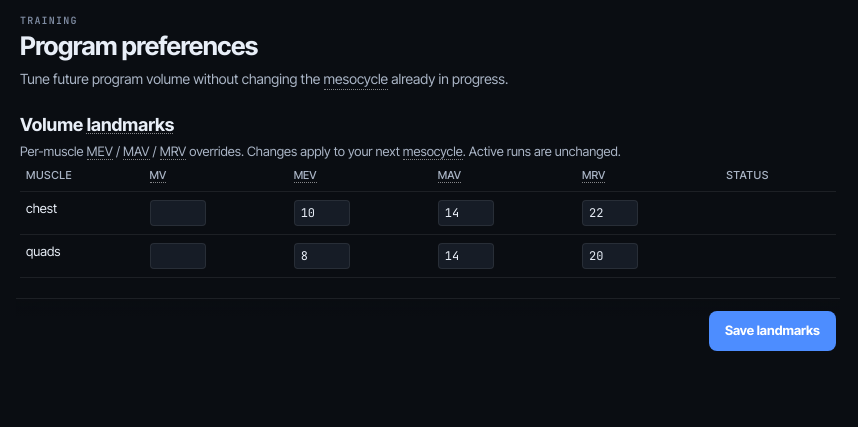
Test: <LandmarksEditor> › shows per-row errors for MULTIPLE bad rows simultaneously [C-LANDMARKS-CLINICAL-FLOORS]
This screenshot has width=858, height=427.
Replace the text in the field named "chest mev" with "1". click: (322, 213)
box: left=294, top=200, right=350, bottom=226
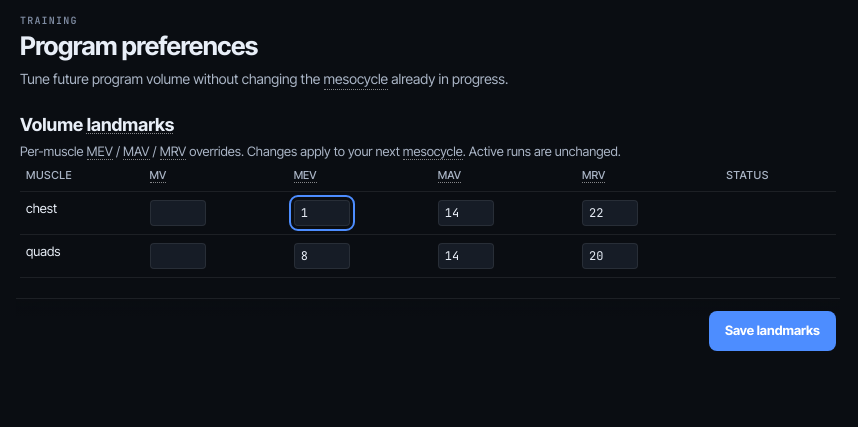
Replace the text in the field named "quads mrv" with "60". click: (610, 256)
box: left=582, top=243, right=638, bottom=269
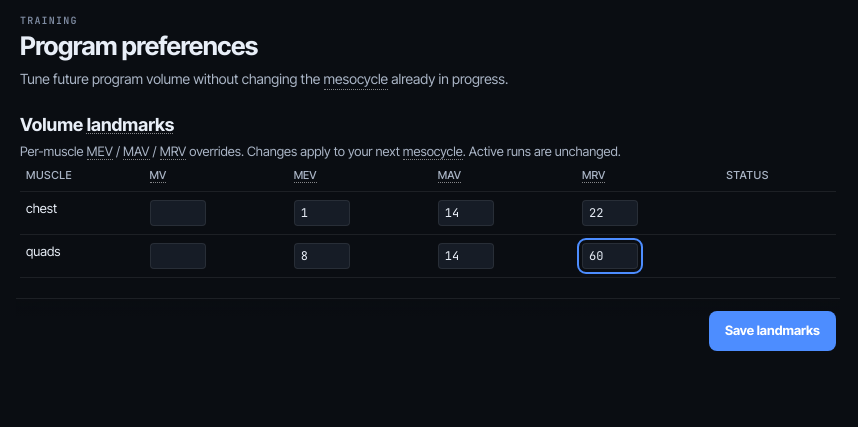
Click the button "Save landmarks". click: (772, 331)
box: left=709, top=311, right=836, bottom=351
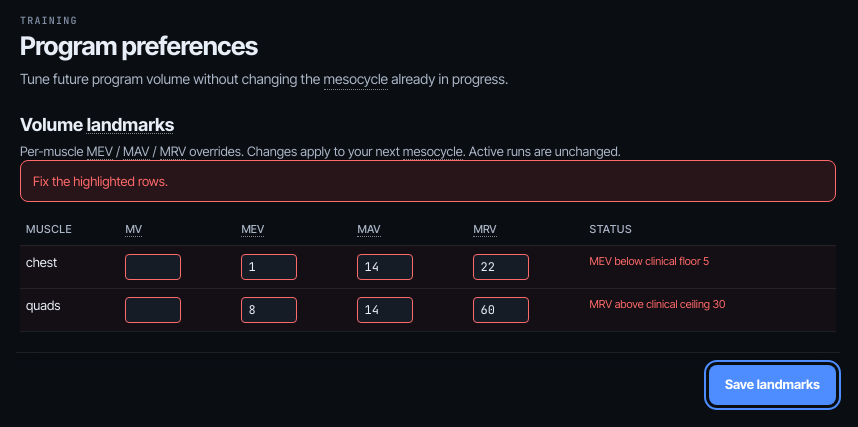
Result: the text "chest MEV below clinical floor 5" is shown at left=20, top=245, right=836, bottom=288
Result: the text "quads MRV above clinical ceiling 30" is shown at left=20, top=288, right=836, bottom=331
